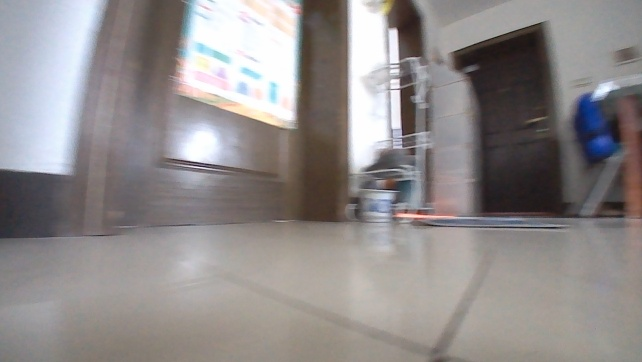blanket: (413, 213, 571, 232)
door_anno: (77, 0, 350, 239), (452, 21, 565, 216)
